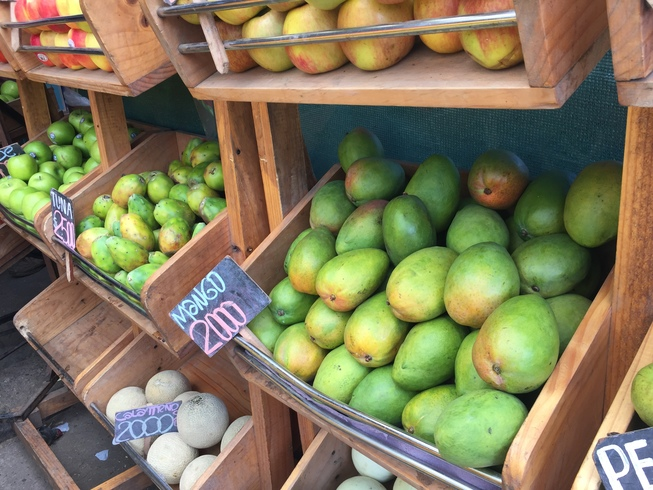precio: (172, 261, 268, 352), (593, 430, 652, 490), (114, 400, 183, 445), (48, 189, 77, 248)
